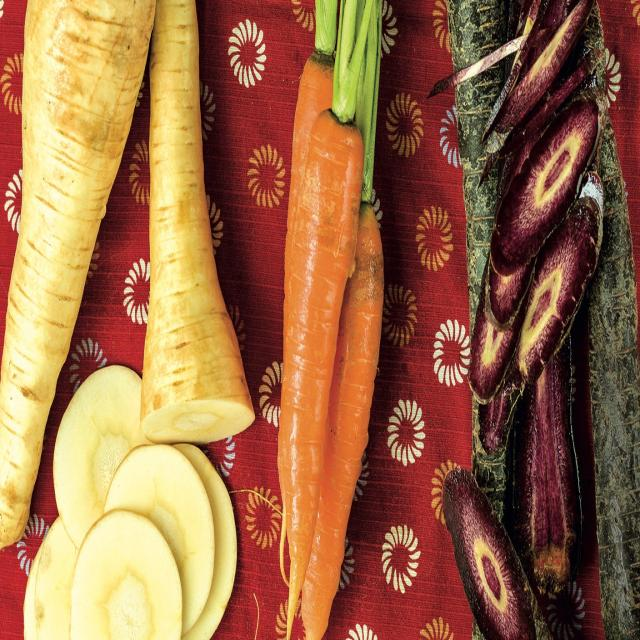Carrot: (287, 107, 337, 611)
